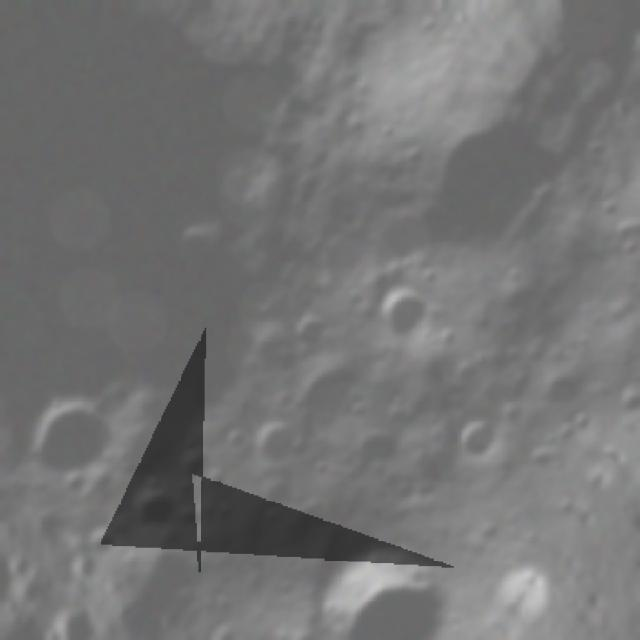crater: (296, 509, 487, 640), (12, 372, 143, 501), (274, 347, 363, 436), (363, 270, 446, 352), (519, 349, 598, 426), (131, 537, 211, 612), (238, 408, 312, 484), (337, 414, 409, 488), (303, 219, 375, 290), (111, 472, 183, 543), (444, 408, 508, 475), (280, 298, 338, 356), (441, 350, 490, 399), (470, 372, 516, 416), (55, 463, 99, 508), (604, 376, 640, 423), (214, 421, 255, 462), (272, 623, 348, 640)
